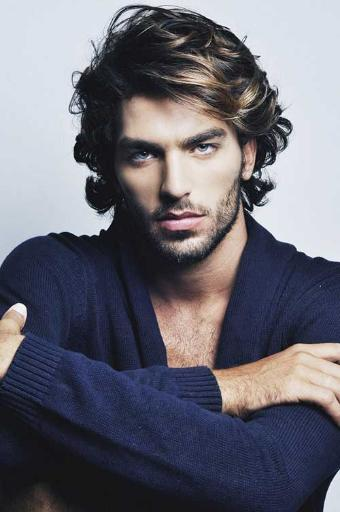left_eye: (190, 142, 222, 160)
left_lip_corner: (199, 209, 212, 225)
right_eye: (127, 150, 160, 167)
right_lip_corner: (155, 216, 165, 231)
